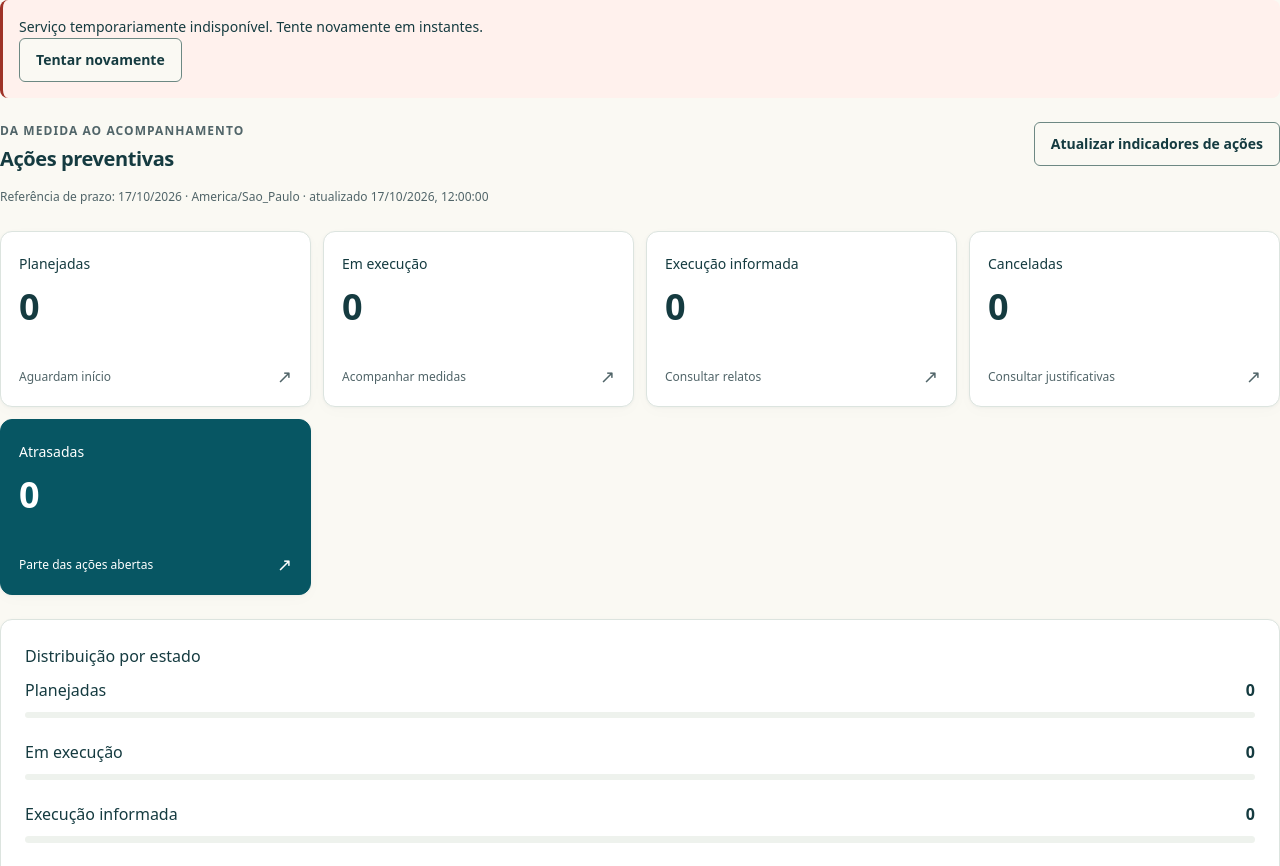
oferece recuperação manual após falha do inventário
The image size is (1280, 866).
expect the message shows "temporariamente indisponível": met, box [19,17,483,36]
Click the button "Tentar novamente" at (100,60), box [19,38,182,82]
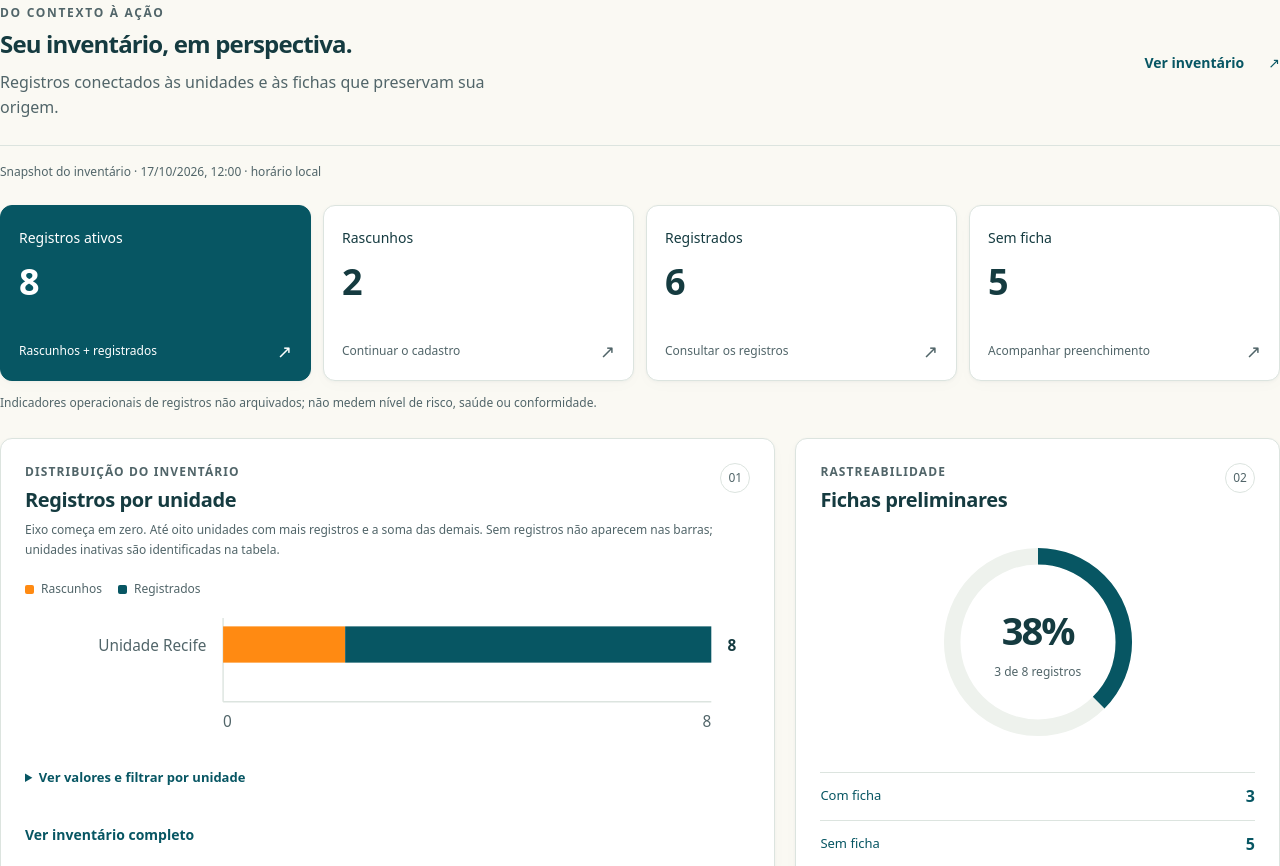
expect the list named "Indicadores do inventário" is shown: met, box [0,205,1279,381]
